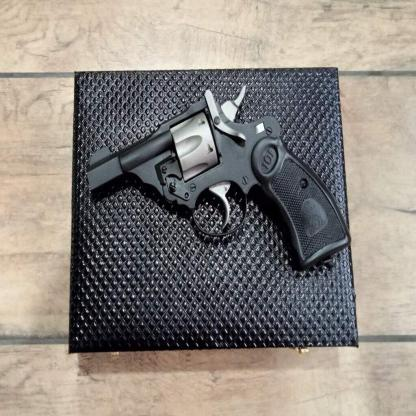handgun: (87, 86, 352, 272)
